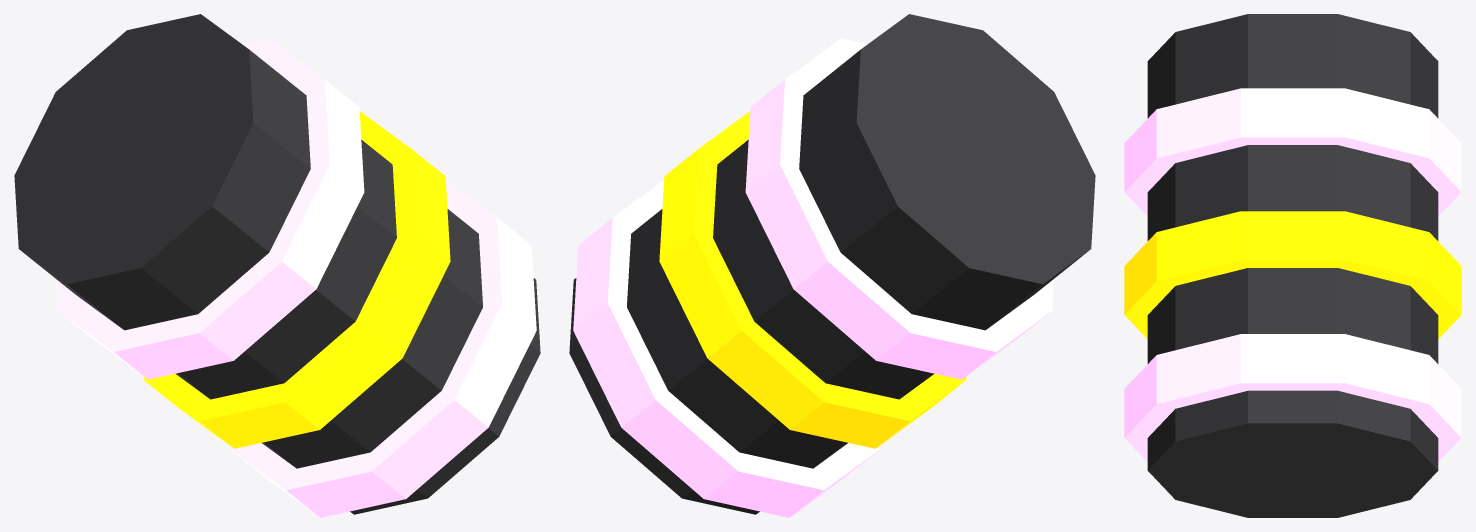
File: brianna_gauntlet_L-CCn2TK1D.glb
The picture shows the model from 3 angles, left to right: view 1: azimuth 30°, elevation 25°; view 2: azimuth 150°, elevation 25°; view 3: azimuth 270°, elevation 25°; orthographic projection. The views are drawn at different scales.
Visible parts, largest first — view 1: PROP_Brianna_ThermalCoilGauntlet_L; view 2: PROP_Brianna_ThermalCoilGauntlet_L; view 3: PROP_Brianna_ThermalCoilGauntlet_L.
Part boxes in pixels (<box>): PROP_Brianna_ThermalCoilGauntlet_L: <box>14,14,540,517</box>; PROP_Brianna_ThermalCoilGauntlet_L: <box>569,14,1095,517</box>; PROP_Brianna_ThermalCoilGauntlet_L: <box>1124,14,1461,517</box>.
Size of the model in its own units: 0.1733 by 0.1733 by 0.116.
